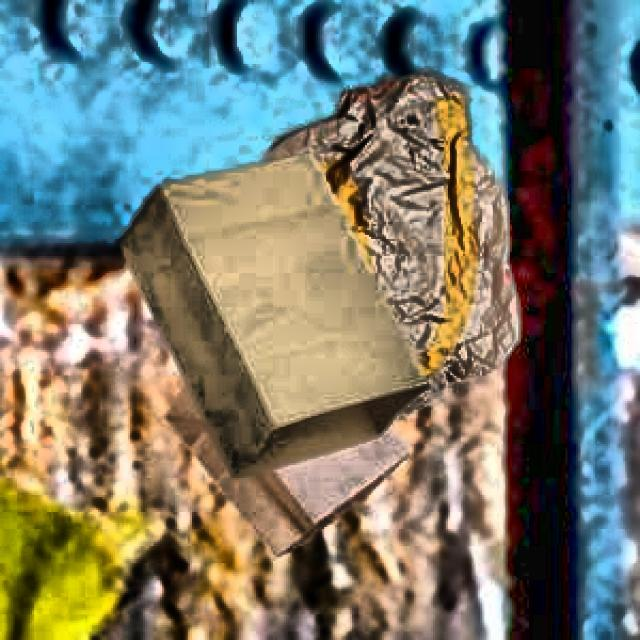Paper-bag: (105, 147, 408, 575), (244, 61, 531, 407)
